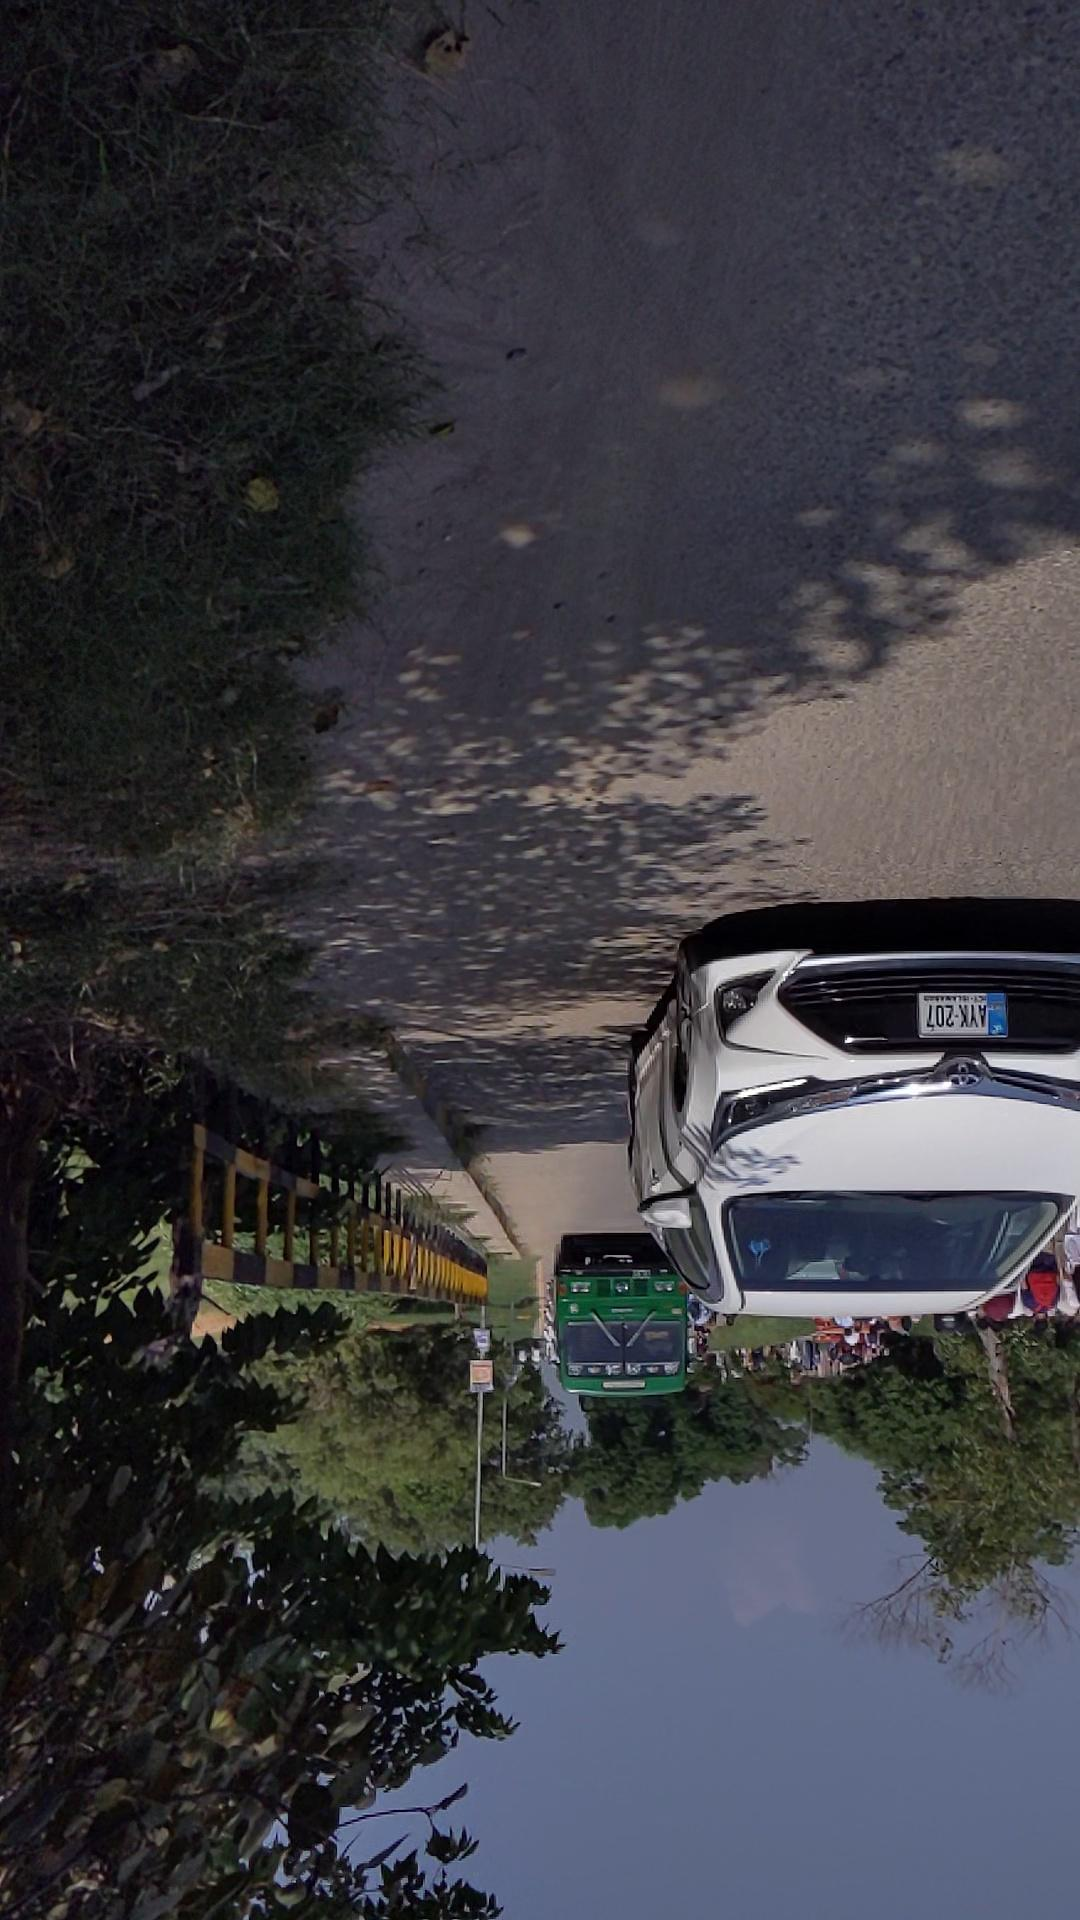windshield: (4, 616, 372, 728)
